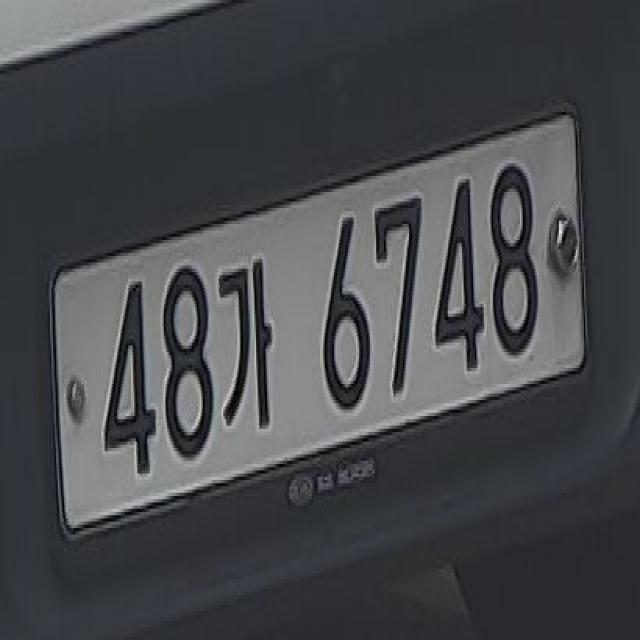4: (98, 274, 156, 508), (428, 175, 486, 392)
6: (314, 206, 372, 442)
7: (370, 192, 428, 414)
8: (160, 253, 216, 487), (485, 162, 541, 362)
ga: (214, 257, 276, 447)
license_plate: (32, 84, 602, 593)
